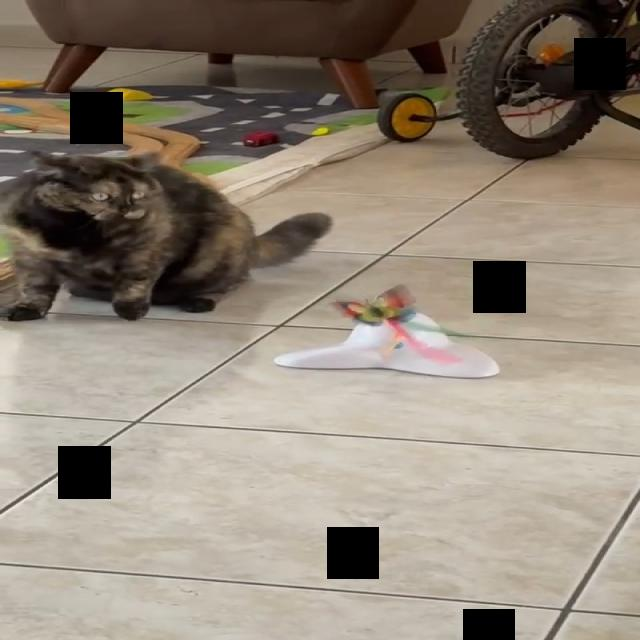authorized: (0, 150, 332, 322)
